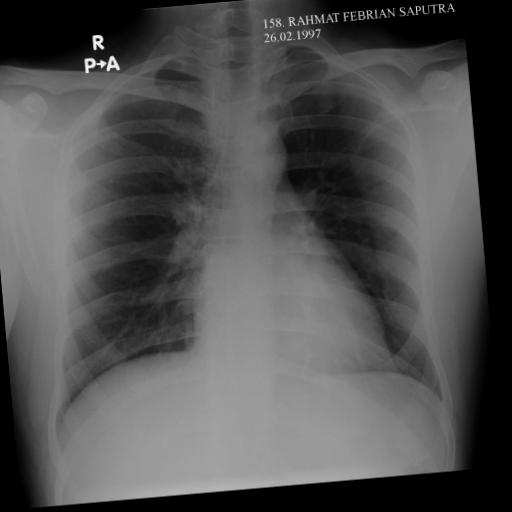normal: (20, 29, 461, 462)
